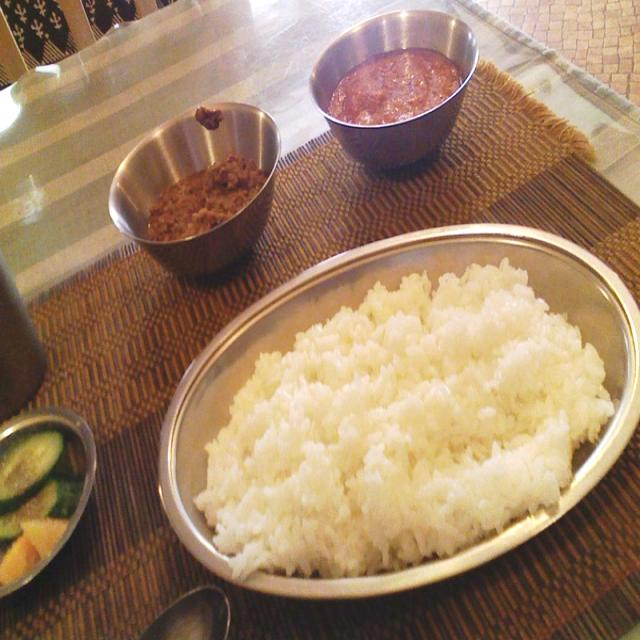rice: (272, 290, 530, 543)
